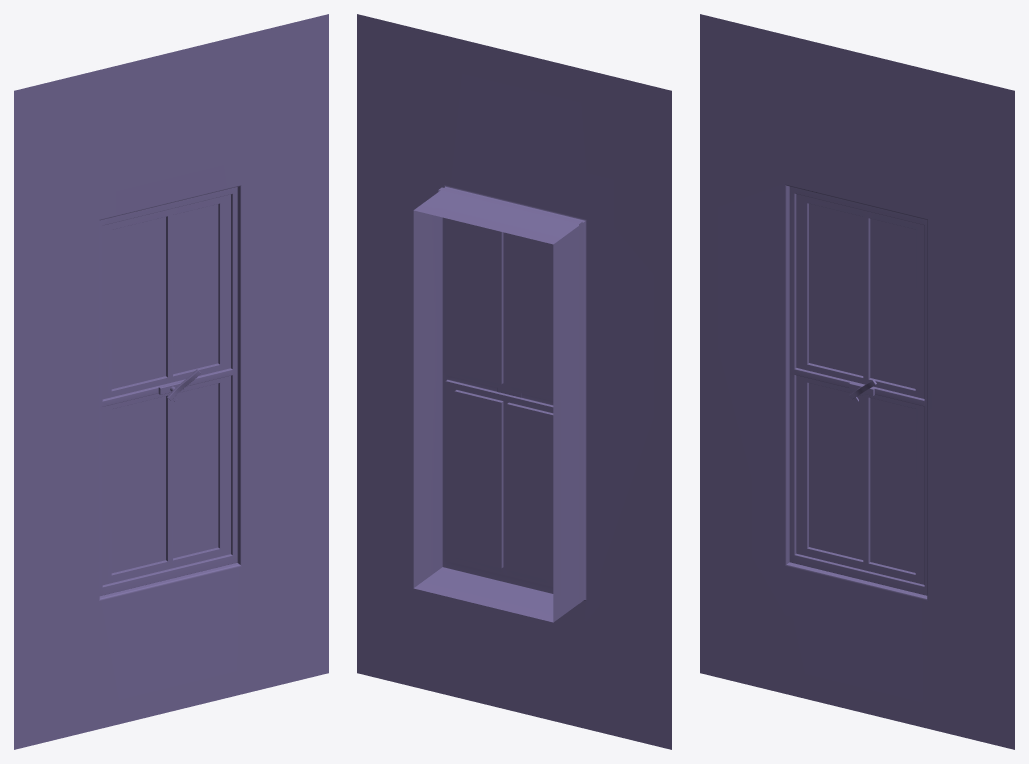
Rendered from environmentproject_wallbrick_window_a.fbx.
The picture shows the model from 3 angles, left to right: view 1: azimuth 30°, elevation 25°; view 2: azimuth 150°, elevation 25°; view 3: azimuth 330°, elevation 25°; orthographic projection.
Parts seen in each view (by area): view 1: wallbrick_window_a_GEO_01; view 2: wallbrick_window_a_GEO_01; view 3: wallbrick_window_a_GEO_01.
Part boxes in pixels (x1=…): wallbrick_window_a_GEO_01: x1=14, y1=14, x2=328, y2=749; wallbrick_window_a_GEO_01: x1=357, y1=14, x2=671, y2=749; wallbrick_window_a_GEO_01: x1=700, y1=14, x2=1014, y2=749.
Bounding box in the file's own units: 200 × 400 × 41.64.
